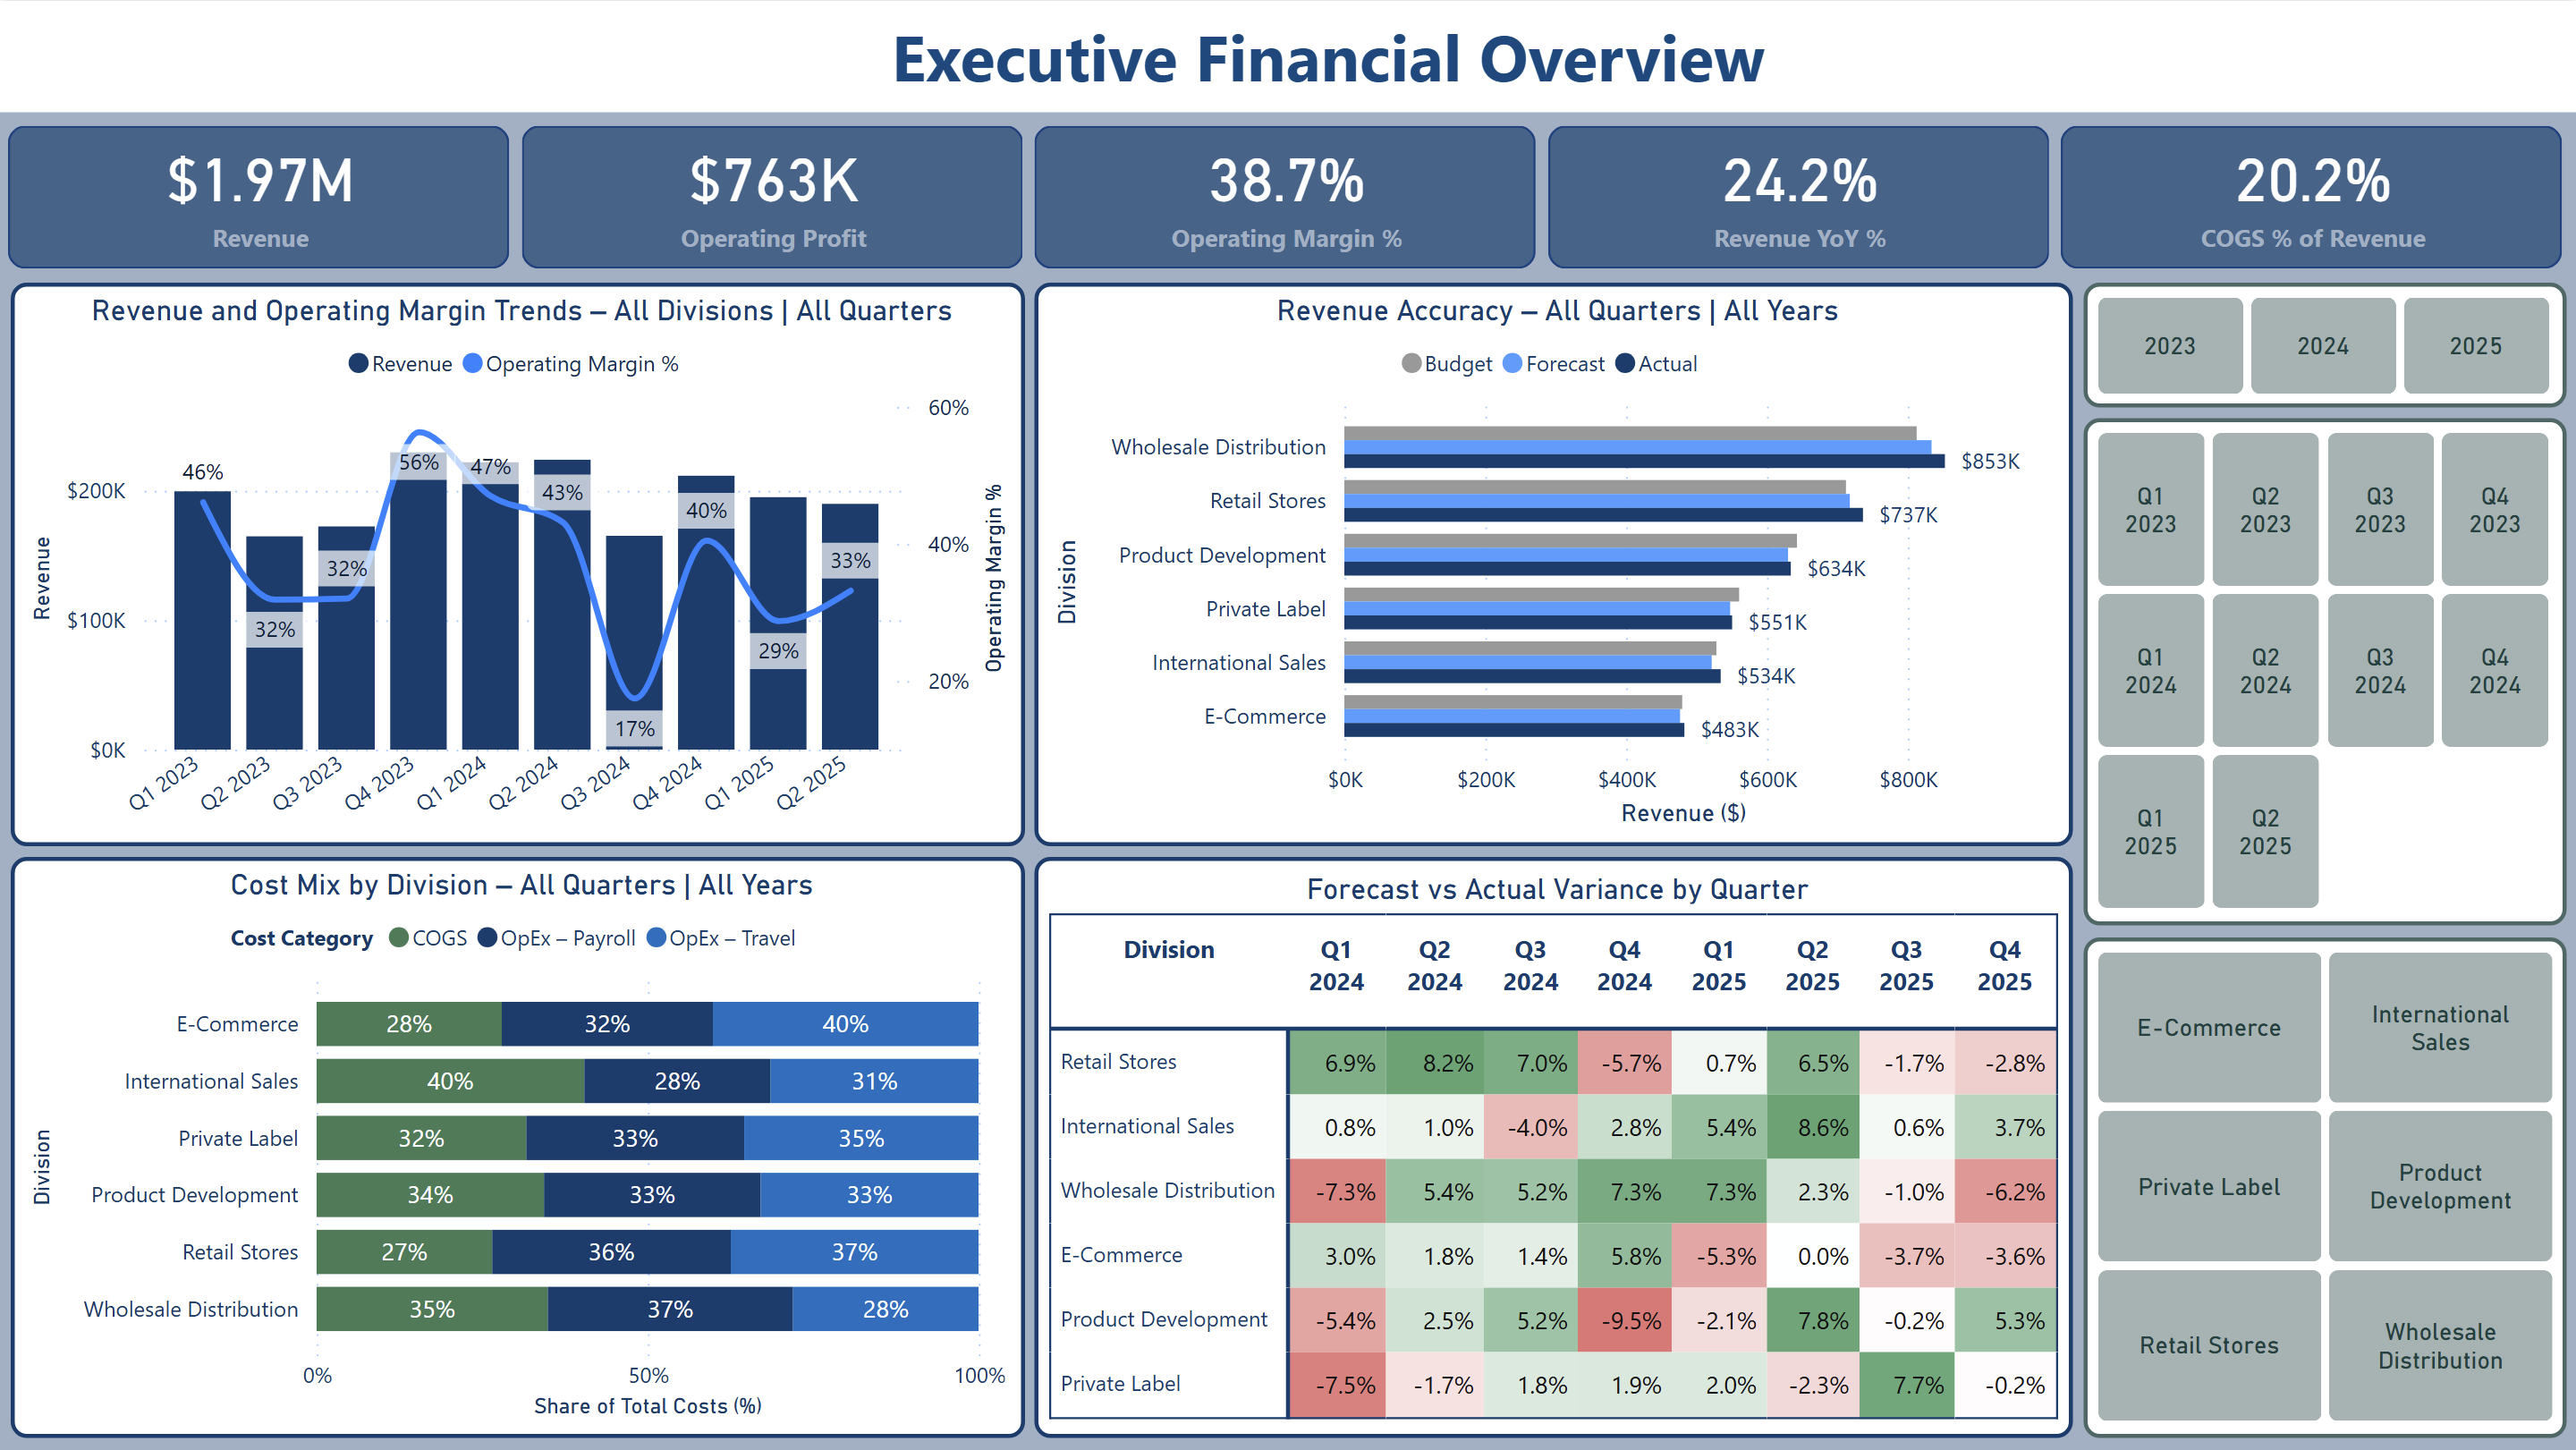

The page's visual inventory and layout, read from the dashboard file:
{"tool":"powerbi","page":{"name":"Executive Financial Overview","canvas":[1280,720],"ordinal":0},"visuals":[{"type":"advancedSlicerVisual","fields":{"Values":["Dim_Division.Division"]},"box":[1035,465,240,248.6],"z":0},{"type":"lineClusteredColumnComboChart","fields":{"Category":["Dim_Date.QuarterLabel","Dim_Date.StartOfMonth"],"Y":["_Measures.Revenue"],"Y2":["_Measures.Operating Margin %"]},"box":[5,140,504,280],"z":1000},{"type":"advancedSlicerVisual","fields":{"Values":["Dim_Date.QuarterLabel"]},"box":[1035,207.1,240,252.1],"z":2000},{"type":"clusteredBarChart","fields":{"Category":["Dim_Dept.Dept"],"Y":["_Measures.Budget","_Measures.Forecast","_Measures.Actual"]},"box":[514,140,516,280],"z":3000},{"type":"pivotTable","title":"Forecast vs Actual Variance by Quarter","fields":{"Rows":["Dim_Dept.Dept"],"Columns":["Dim_Date.QuarterLabel"],"Values":["_Measures.Variance %"]},"box":[514,425,516,288.6],"z":4000},{"type":"cardVisual","fields":{"Data":["_Measures.Revenue (Display)","_Measures.Operating Profit","_Measures.Operating Margin %","_Measures.Revenue YoY %","_Measures.COGS % of Revenue"]},"box":[0,60,1280,75],"z":5000},{"type":"advancedSlicerVisual","fields":{"Values":["Dim_Date.FiscalYear"]},"box":[1035,140,240,62],"z":6000},{"type":"textbox","box":[0,0,1280,55],"z":7000},{"type":"barChart","fields":{"Category":["Dim_Dept.Dept"],"Y":["_Measures.Cost Mix %"],"Series":["Dim_CostMix.CostMix"]},"box":[5,425,504,288.6],"z":8000}]}

Visuals, with their boxes in screenshot pixels (x1, y1, x2, y2), scaled from the page's 1280x720 canvas onto the 2576x1450 screenshot:
advancedSlicerVisual - Dim_Division.Division: crop(2083, 937, 2566, 1437)
lineClusteredColumnComboChart - Dim_Date.QuarterLabel x Dim_Date.StartOfMonth: crop(10, 282, 1024, 846)
advancedSlicerVisual - Dim_Date.QuarterLabel: crop(2083, 417, 2566, 925)
clusteredBarChart - Dim_Dept.Dept x _Measures.Budget: crop(1034, 282, 2073, 846)
"Forecast vs Actual Variance by Quarter" pivotTable: crop(1034, 856, 2073, 1437)
cardVisual - _Measures.Revenue (Display) x _Measures.Operating Profit: crop(0, 121, 2575, 272)
advancedSlicerVisual - Dim_Date.FiscalYear: crop(2083, 282, 2566, 407)
textbox: crop(0, 0, 2575, 111)
barChart - Dim_Dept.Dept x _Measures.Cost Mix %: crop(10, 856, 1024, 1437)
